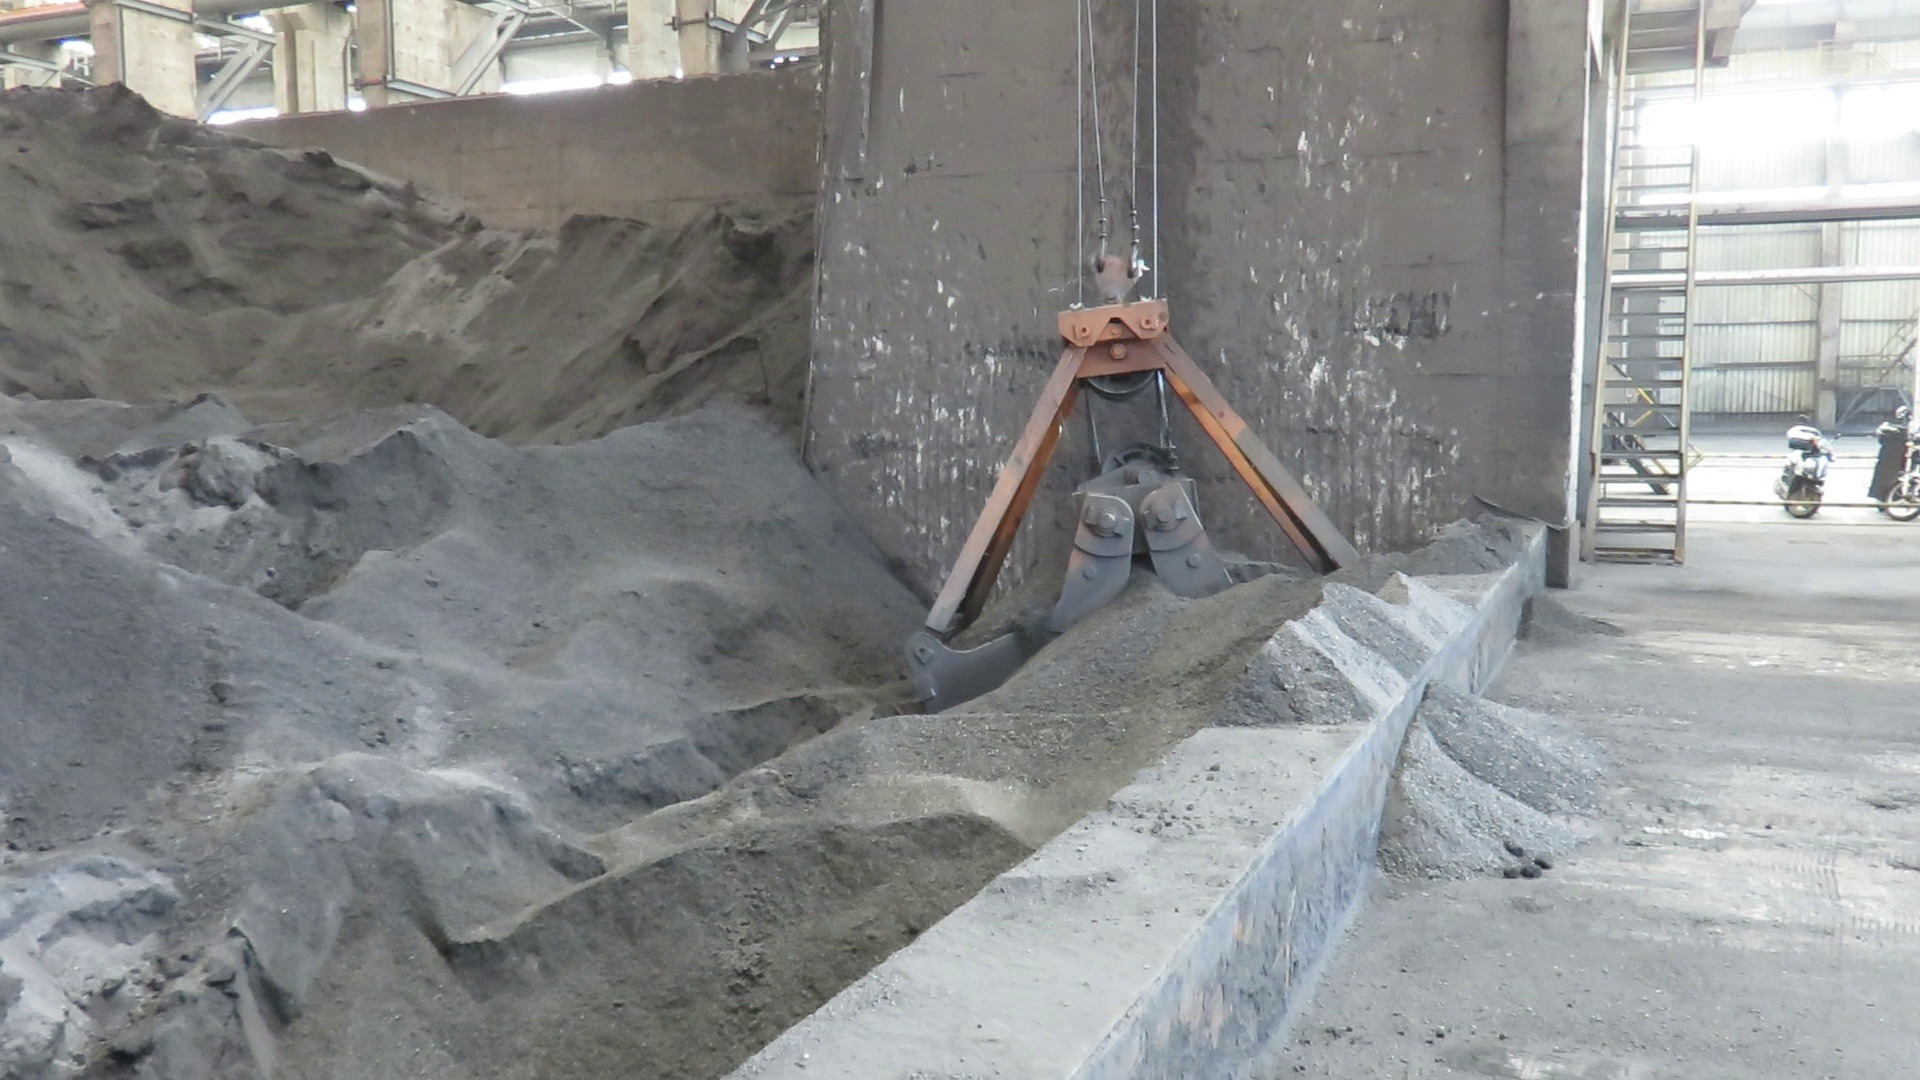grab: (899, 255, 1393, 711)
